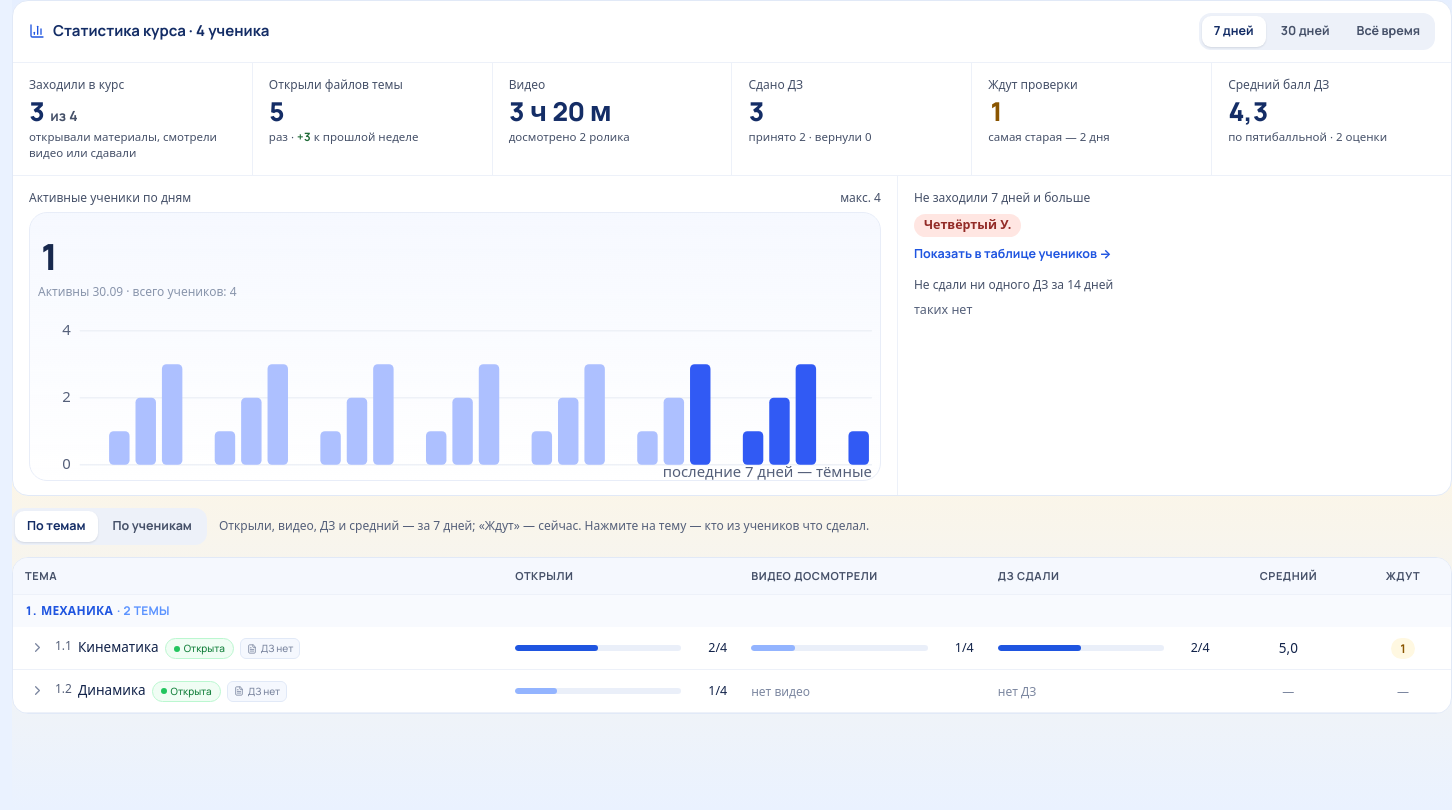
Scenario: CourseStatsSection (§242) › «Показать в таблице учеников» переключает разрез
The width and height of the screenshot is (1452, 810).
Click the button "Показать в таблице учеников →" at (1013, 254), box [914,245,1111,263]
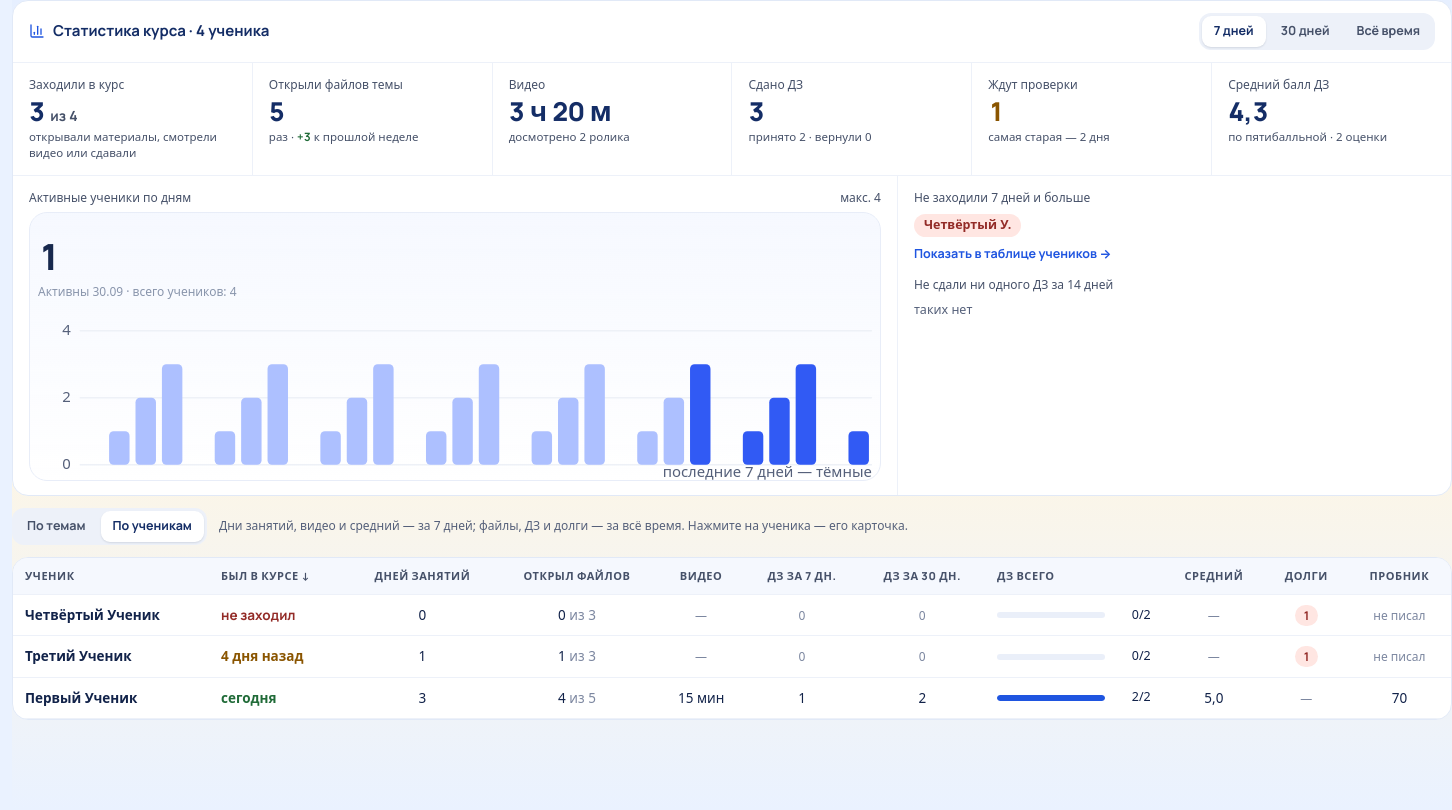
Result: the element with test id "stats-students" is shown at [12,557,1451,720]
